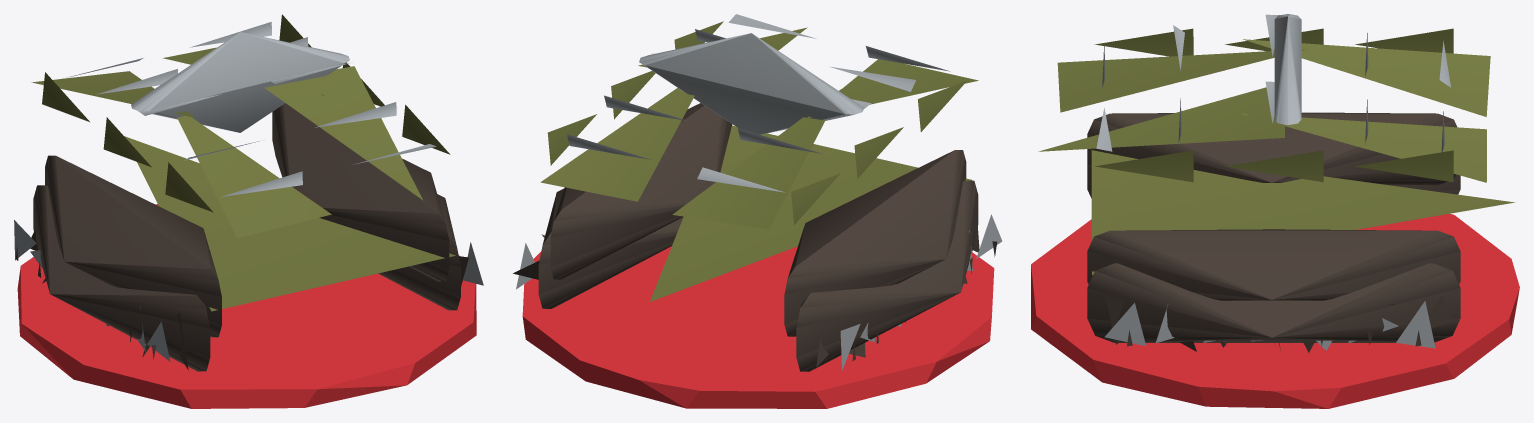
The model's file is japan_engineer_lod1.glb.
The picture shows the model from 3 angles, left to right: view 1: azimuth 30°, elevation 25°; view 2: azimuth 150°, elevation 25°; view 3: azimuth 270°, elevation 25°; orthographic projection. The views are drawn at different scales.
Visible parts, largest first — view 1: body_hull, base_pedestal; view 2: body_hull, base_pedestal; view 3: body_hull, base_pedestal.
Boxes of the visible parts, <box> form: body_hull: <box>14,14,483,371</box>; base_pedestal: <box>17,204,476,408</box>; body_hull: <box>513,14,1002,371</box>; base_pedestal: <box>522,246,994,408</box>; body_hull: <box>1039,14,1515,352</box>; base_pedestal: <box>1031,213,1519,408</box>.
Size of the model in its own units: 0.7751 by 0.5074 by 0.7751.
